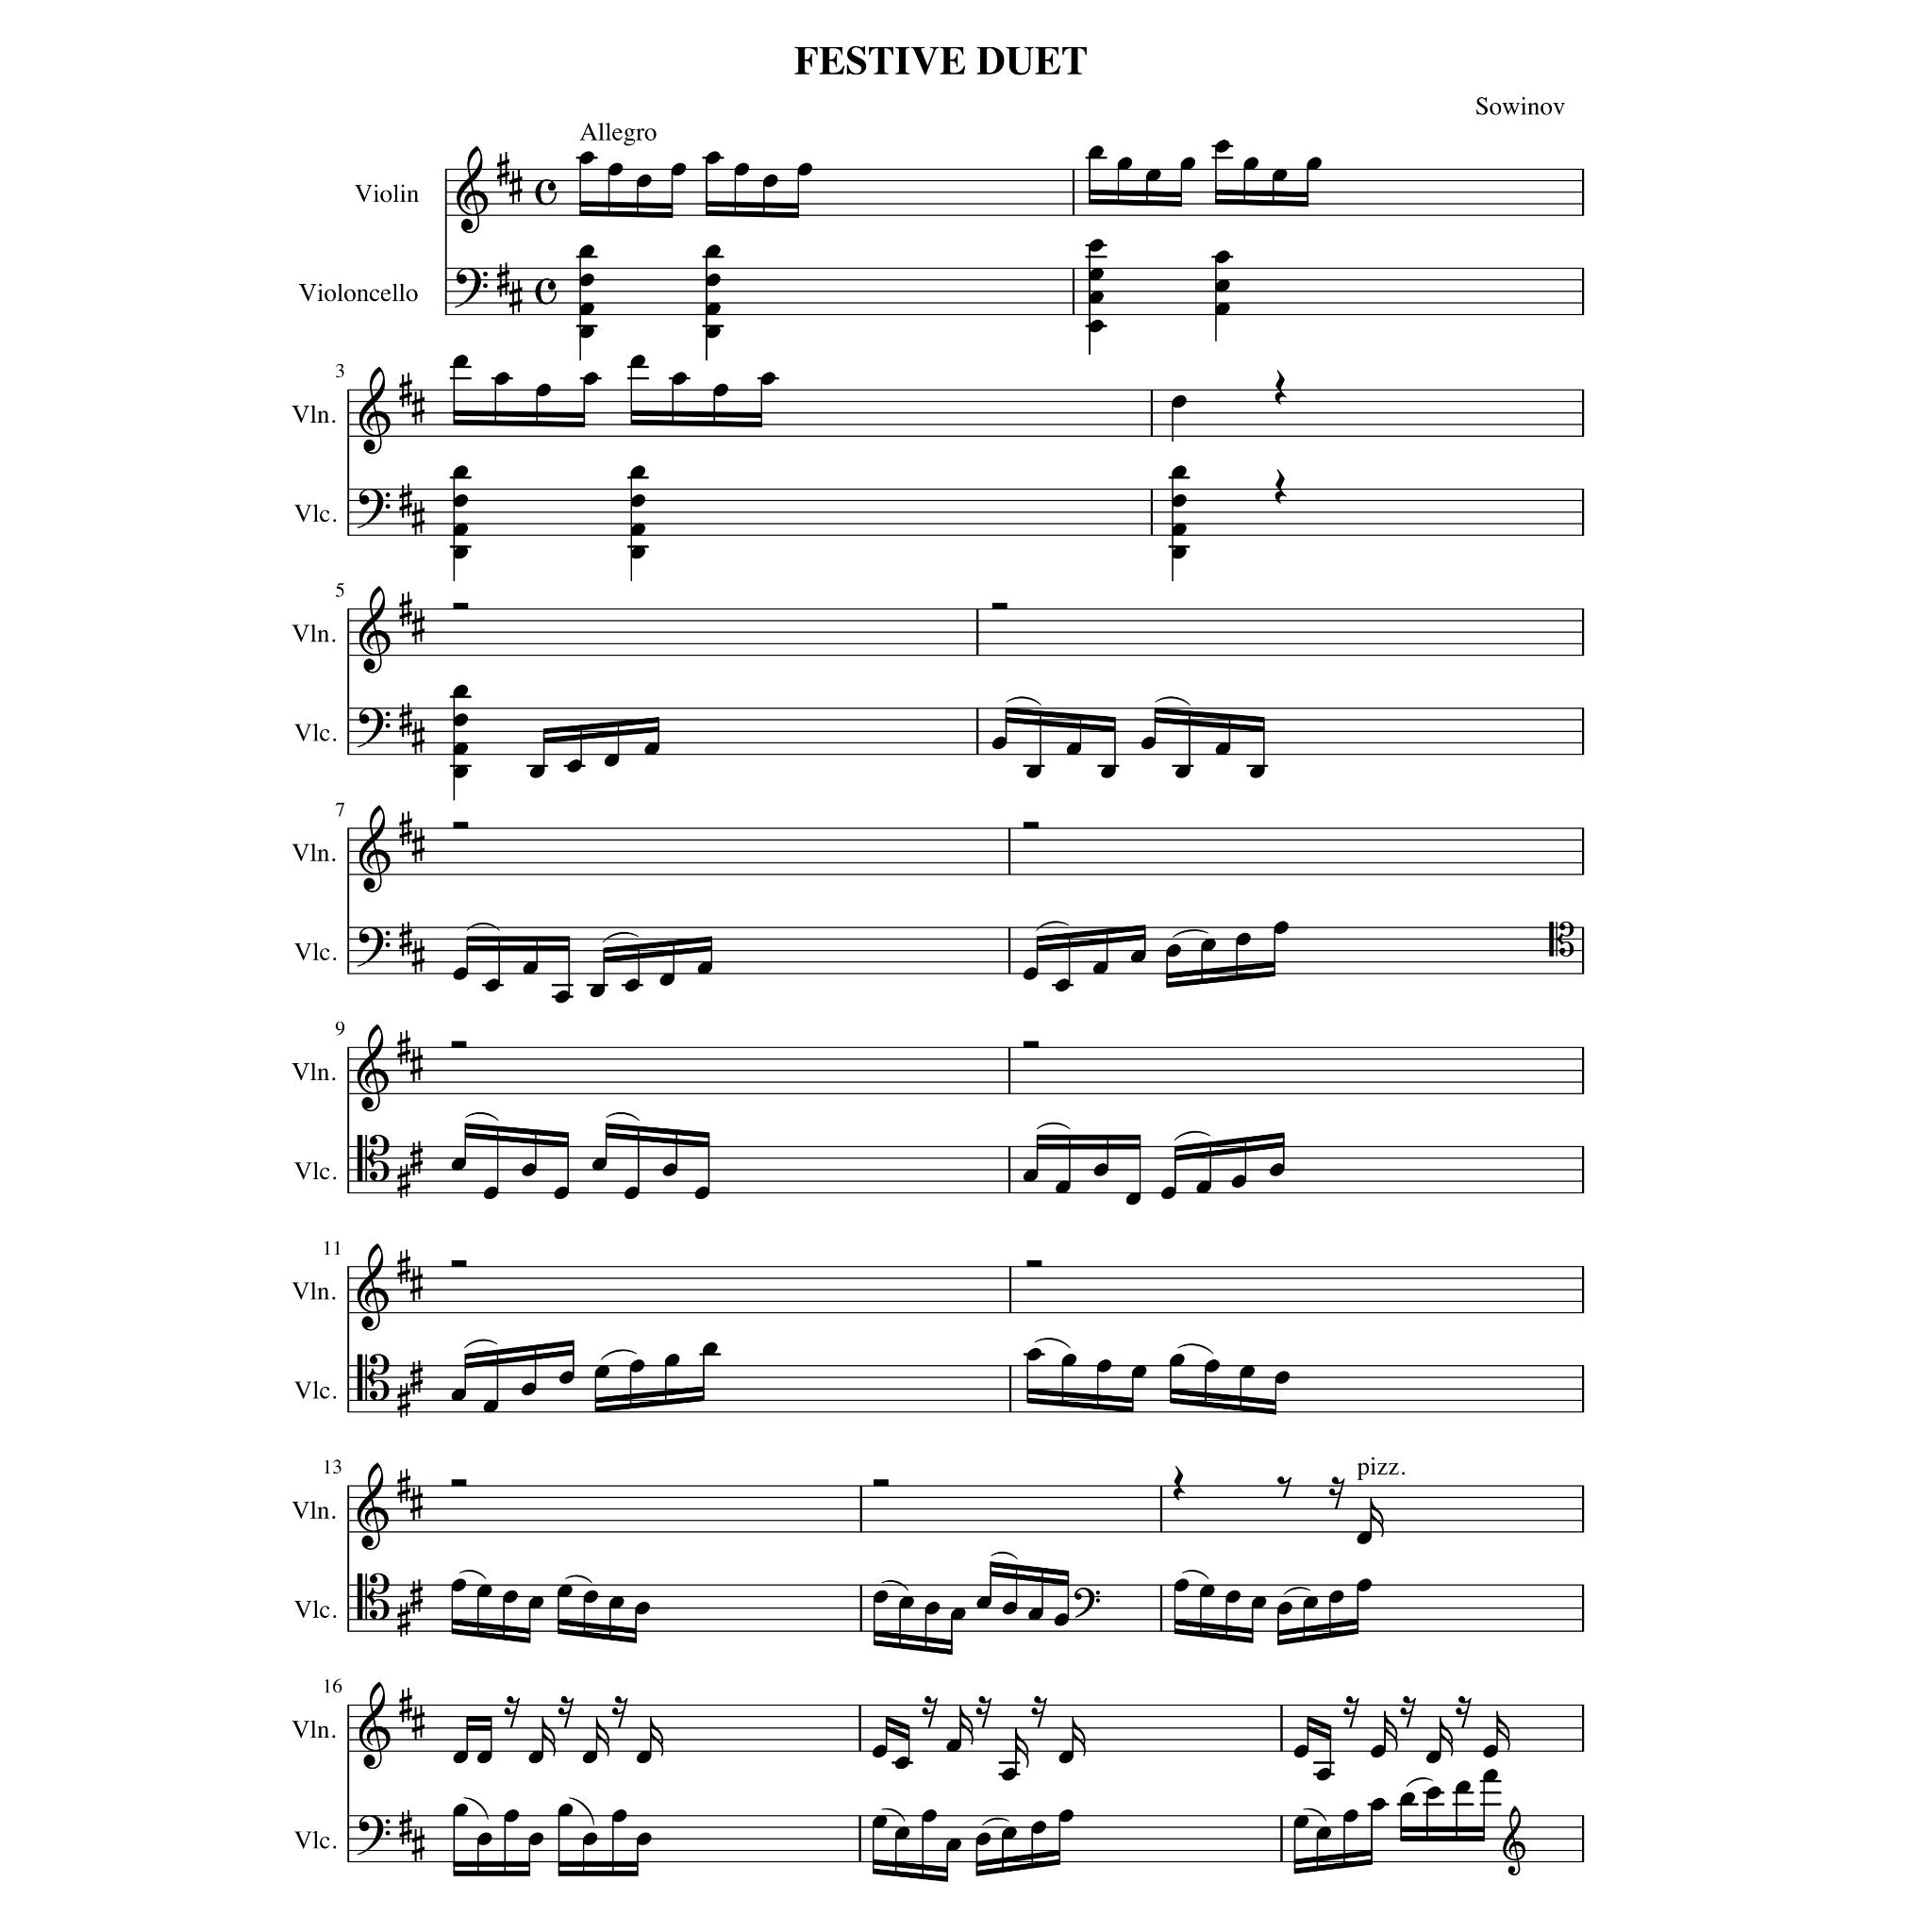fClef: (453, 269, 488, 310), (357, 488, 391, 529), (357, 708, 391, 748), (357, 927, 391, 968), (357, 1815, 391, 1856)
flag16thUp: (1072, 1716, 1086, 1757), (1495, 1711, 1509, 1752), (1384, 1711, 1398, 1752), (541, 1716, 556, 1757), (596, 1716, 610, 1757), (649, 1716, 663, 1757), (1369, 1499, 1384, 1537), (1440, 1716, 1453, 1757), (961, 1706, 973, 1746), (1016, 1729, 1028, 1767)
gClef: (359, 366, 391, 456), (357, 1461, 389, 1552), (456, 145, 488, 234), (359, 586, 391, 674), (359, 805, 391, 893), (357, 1024, 389, 1113), (357, 1242, 389, 1330), (359, 1681, 391, 1769)
noteheadBlack: (1214, 303, 1231, 317), (1214, 140, 1231, 154), (1242, 157, 1260, 172), (1270, 168, 1288, 182), (759, 372, 777, 386), (1355, 1578, 1373, 1592), (1355, 1530, 1373, 1545), (1000, 1767, 1017, 1782), (1000, 1826, 1017, 1840), (1369, 1798, 1387, 1812), (1369, 1744, 1387, 1759), (1116, 157, 1132, 172), (1145, 168, 1161, 182), (1180, 157, 1196, 172), (1088, 267, 1104, 281), (1088, 239, 1104, 253), (1306, 157, 1322, 172), (607, 163, 623, 177), (579, 150, 594, 165), (579, 303, 594, 317), (579, 244, 594, 258), (734, 163, 750, 177), (671, 163, 686, 177), (796, 163, 812, 177), (704, 244, 720, 258), (704, 303, 720, 317), (704, 150, 720, 165), (1171, 395, 1187, 409), (1171, 545, 1187, 559), (1171, 494, 1187, 508), (1171, 465, 1187, 479), (671, 372, 686, 386), (713, 384, 729, 398), (453, 494, 469, 508), (453, 465, 469, 479), (494, 372, 510, 386), (453, 354, 469, 368), (453, 545, 469, 559), (630, 354, 646, 368), (630, 545, 646, 559), (630, 494, 646, 508), (630, 465, 646, 479), (536, 384, 552, 398), (582, 372, 598, 386), (1100, 764, 1116, 778), (1139, 736, 1155, 750), (1026, 764, 1042, 778), (1175, 764, 1191, 778), (1249, 764, 1265, 778), (453, 764, 469, 778), (453, 713, 469, 727), (453, 685, 469, 699), (529, 764, 545, 778), (991, 736, 1007, 750), (566, 759, 582, 773), (1092, 961, 1108, 975), (1235, 932, 1251, 947), (1201, 938, 1217, 952), (1274, 920, 1290, 934), (453, 966, 469, 980), (522, 961, 538, 975), (697, 961, 713, 975), (1023, 966, 1039, 980), (1054, 1180, 1070, 1194), (1093, 1162, 1109, 1177), (1196, 1180, 1212, 1194), (1269, 1162, 1284, 1177), (451, 1157, 467, 1171), (522, 1162, 538, 1177), (662, 1162, 678, 1177), (1023, 1168, 1039, 1182), (591, 1157, 607, 1171), (1062, 1353, 1077, 1368), (1169, 1353, 1185, 1368), (1095, 1359, 1111, 1373), (1205, 1359, 1221, 1373), (1274, 1369, 1290, 1384), (483, 1399, 499, 1414), (520, 1382, 536, 1396), (628, 1359, 644, 1373), (663, 1353, 679, 1368), (557, 1369, 573, 1384), (1251, 1596, 1267, 1610), (1200, 1583, 1215, 1598), (1001, 1601, 1017, 1615), (1173, 1578, 1189, 1592), (1302, 1596, 1318, 1610), (1277, 1601, 1293, 1615), (557, 1583, 573, 1598), (609, 1596, 625, 1610), (633, 1601, 649, 1615), (451, 1578, 467, 1592), (478, 1583, 494, 1598), (527, 1596, 543, 1610), (924, 1601, 939, 1615), (899, 1596, 915, 1610), (977, 1596, 993, 1610), (1316, 1826, 1332, 1840), (1316, 1767, 1332, 1782), (975, 1831, 991, 1845), (1058, 1750, 1074, 1764), (1293, 1744, 1309, 1759), (1031, 1821, 1047, 1835), (1483, 1744, 1499, 1759), (1399, 1792, 1415, 1806), (1454, 1780, 1470, 1794), (1424, 1785, 1440, 1799), (1424, 1750, 1440, 1764), (527, 1831, 543, 1845), (557, 1803, 573, 1817), (527, 1750, 543, 1764), (582, 1831, 598, 1845), (582, 1750, 598, 1764), (453, 1750, 469, 1764), (453, 1803, 469, 1817), (478, 1750, 494, 1764), (478, 1831, 494, 1845), (893, 1826, 909, 1840), (947, 1737, 962, 1752), (637, 1831, 653, 1845), (637, 1750, 653, 1764), (870, 1744, 886, 1759), (1214, 280, 1231, 292), (1214, 251, 1231, 264), (1214, 743, 1231, 755), (658, 973, 676, 985), (502, 1810, 520, 1822), (1088, 147, 1104, 159), (1088, 320, 1104, 333), (1088, 292, 1104, 304), (637, 175, 653, 188), (579, 326, 594, 338), (579, 274, 594, 287), (763, 175, 778, 188), (704, 274, 720, 287), (704, 326, 720, 338), (1171, 524, 1187, 536), (453, 524, 469, 536), (630, 524, 646, 536), (1065, 743, 1081, 755), (453, 743, 469, 755), (644, 743, 660, 755), (603, 754, 619, 766), (1054, 978, 1070, 991), (1131, 950, 1146, 962), (1166, 945, 1182, 957), (485, 978, 501, 991), (625, 978, 640, 991), (554, 991, 570, 1003), (589, 985, 605, 998), (1161, 1187, 1177, 1200), (1125, 1192, 1141, 1205), (483, 1187, 499, 1200), (694, 1187, 709, 1200), (623, 1187, 639, 1200), (554, 1187, 570, 1200), (1131, 1366, 1146, 1378), (1238, 1366, 1254, 1378), (451, 1389, 467, 1401), (702, 1343, 718, 1355), (1026, 1348, 1042, 1361), (1224, 1591, 1240, 1603), (1028, 1608, 1044, 1621), (1053, 1614, 1069, 1626), (1329, 1591, 1345, 1603), (582, 1591, 598, 1603), (502, 1591, 518, 1603), (950, 1608, 966, 1621), (872, 1591, 888, 1603), (1293, 1815, 1309, 1828), (1343, 1810, 1359, 1822), (1058, 1810, 1074, 1822), (1483, 1769, 1499, 1782), (610, 1810, 626, 1822), (893, 1757, 909, 1769), (947, 1838, 962, 1851), (922, 1810, 938, 1822), (870, 1815, 886, 1828), (1231, 1175, 1246, 1187), (594, 1366, 609, 1378)
rest16th: (975, 1695, 993, 1729), (1399, 1695, 1417, 1729), (1454, 1695, 1472, 1729), (557, 1695, 575, 1729), (502, 1695, 520, 1729), (920, 1695, 938, 1729), (1343, 1695, 1359, 1729), (1031, 1695, 1047, 1729), (612, 1695, 628, 1729), (1329, 1477, 1345, 1509)
rest8th: (1276, 1476, 1292, 1499)
restHalf: (453, 821, 469, 830), (1023, 821, 1039, 830), (451, 1260, 467, 1269), (1026, 1260, 1042, 1269), (872, 1479, 890, 1486), (453, 603, 469, 610), (991, 603, 1007, 610), (451, 1040, 467, 1047), (1023, 1040, 1039, 1047), (451, 1479, 467, 1486)
restQuarter: (1274, 370, 1286, 405), (1274, 469, 1286, 504), (1173, 1465, 1185, 1500)
